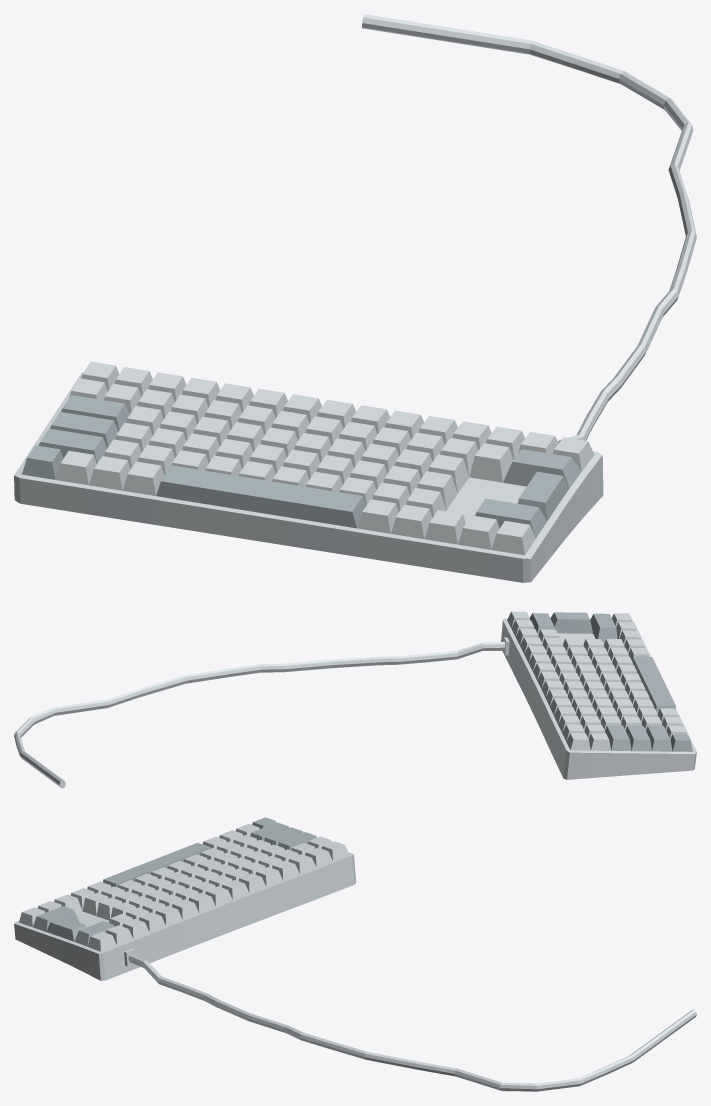
Rendered from pc.keyboard.gltf.
3 views of the same model, one above another, from view 1: azimuth 30°, elevation 25°; view 2: azimuth 150°, elevation 25°; view 3: azimuth 270°, elevation 25° (orthographic). The views are drawn at different scales.
Parts seen in each view (by area): view 1: pc.keyboard; view 2: pc.keyboard; view 3: pc.keyboard.
Boxes of the visible parts, x1,y1,x2,y2 form: pc.keyboard: (14,14,696,582); pc.keyboard: (14,611,696,788); pc.keyboard: (14,817,696,1091).
Size of the model in its own units: 17.05 by 1.37 by 18.63.
Materials: 1 (1 with a texture image).
